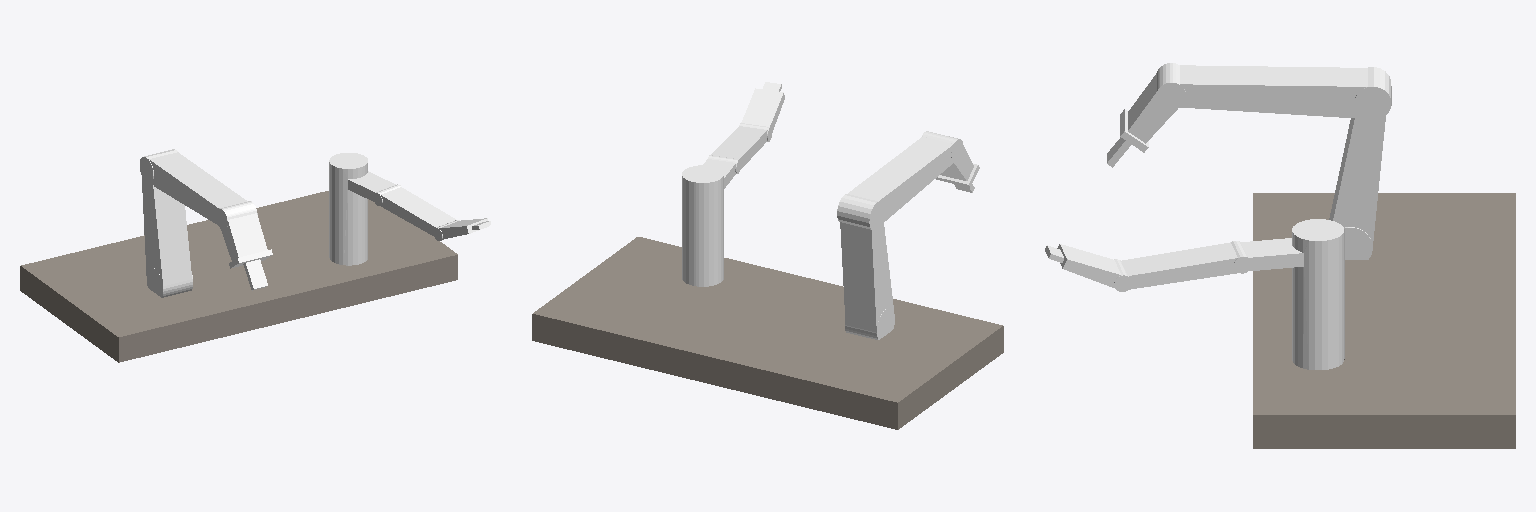
URDF robot description (my_robot_description):
<?xml version="1.0" encoding="utf-8"?>
<!-- This URDF was automatically created by SolidWorks to URDF Exporter! Originally created by [author] ([email redacted]) 
     Commit Version: 1.5.1-0-g916b5db  Build Version: 1.5.7152.31018
     For more information, please see http://wiki.ros.org/sw_urdf_exporter -->
<robot
  name="my_robot_description">
  <link
    name="base_link">
    <inertial>
      <origin
        xyz="0 0 0"
        rpy="0 0 0" />
      <mass
        value="100" />
      <inertia
        ixx="1"
        ixy="0"
        ixz="0"
        iyy="1"
        iyz="0"
        izz="1" />
    </inertial>
    <visual>
      <origin
        xyz="0 0 0"
        rpy="0 0 0" />
      <geometry>
        <mesh
          filename="package://myrobotdescription/meshes/base_link.STL" />
      </geometry>
      <material
        name="">
        <color
          rgba="0.65098 0.61961 0.58824 1" />
      </material>
    </visual>
    <collision>
      <origin
        xyz="0 0 0"
        rpy="0 0 0" />
      <geometry>
        <mesh
          filename="package://myrobotdescription/meshes/base_link.STL" />
      </geometry>
    </collision>
  </link>
  <link
    name="basejoint">
    <inertial>
      <origin
        xyz="0 0 0"
        rpy="0 0 0" />
      <mass
        value="0.24" />
      <inertia
        ixx="1"
        ixy="0"
        ixz="0"
        iyy="1"
        iyz="0"
        izz="1" />
    </inertial>
    <visual>
      <origin
        xyz="0 0 0"
        rpy="0 0 0" />
      <geometry>
        <mesh
          filename="package://myrobotdescription/meshes/basejoint.STL" />
      </geometry>
      <material
        name="">
        <color
          rgba="1 1 1 1" />
      </material>
    </visual>
    <collision>
      <origin
        xyz="0 0 0"
        rpy="0 0 0" />
      <geometry>
        <mesh
          filename="package://myrobotdescription/meshes/basejoint.STL" />
      </geometry>
    </collision>
  </link>
  <joint
    name="base_joint"
    type="fixed">
    <origin
      xyz="-0.967212862778998 -1.1 0.354355515120088"
      rpy="1.5707963267949 0 1.5707963267949" />
    <parent
      link="base_link" />
    <child
      link="basejoint" />
    <axis
      xyz="0 0 0" />
  </joint>
  <link
    name="sensor_link1">
    <inertial>
      <origin
        xyz="0 0 0"
        rpy="0 0 0" />
      <mass
        value="0.8" />
      <inertia
        ixx="1"
        ixy="0"
        ixz="0"
        iyy="1"
        iyz="0"
        izz="1" />
    </inertial>
    <visual>
      <origin
        xyz="0 0 0"
        rpy="0 0 0" />
      <geometry>
        <mesh
          filename="package://myrobotdescription/meshes/sensor_link1.STL" />
      </geometry>
      <material
        name="">
        <color
          rgba="1 1 1 1" />
      </material>
    </visual>
    <collision>
      <origin
        xyz="0 0 0"
        rpy="0 0 0" />
      <geometry>
        <mesh
          filename="package://myrobotdescription/meshes/sensor_link1.STL" />
      </geometry>
    </collision>
  </link>
  <joint
    name="sensor_joint1"
    type="revolute">
    <origin
      xyz="0 0 0"
      rpy="3.1416 0 3.0004" />
    <parent
      link="basejoint" />
    <child
      link="sensor_link1" />
    <axis
      xyz="0 0 1" />
    <limit
      lower="-3.142"
      upper="3.142"
      effort="30"
      velocity="0.5" />
  </joint>
  <link
    name="sensor_link2">
    <inertial>
      <origin
        xyz="0 0 0"
        rpy="0 0 0" />
      <mass
        value="1.11" />
      <inertia
        ixx="1"
        ixy="0"
        ixz="0"
        iyy="1"
        iyz="0"
        izz="1" />
    </inertial>
    <visual>
      <origin
        xyz="0 0 0"
        rpy="0 0 0" />
      <geometry>
        <mesh
          filename="package://myrobotdescription/meshes/sensor_link2.STL" />
      </geometry>
      <material
        name="">
        <color
          rgba="1 1 1 1" />
      </material>
    </visual>
    <collision>
      <origin
        xyz="0 0 0"
        rpy="0 0 0" />
      <geometry>
        <mesh
          filename="package://myrobotdescription/meshes/sensor_link2.STL" />
      </geometry>
    </collision>
  </link>
  <joint
    name="sensor_joint2"
    type="revolute">
    <origin
      xyz="-0.002203 1.0553 0"
      rpy="0 0 -1.6699" />
    <parent
      link="sensor_link1" />
    <child
      link="sensor_link2" />
    <axis
      xyz="0 0 1" />
    <limit
      lower="-3.142"
      upper="3.142"
      effort="30"
      velocity="0.5" />
  </joint>
  <link
    name="sensor_link3">
    <inertial>
      <origin
        xyz="0 0 0"
        rpy="0 0 0" />
      <mass
        value="0.31" />
      <inertia
        ixx="1"
        ixy="0"
        ixz="0"
        iyy="1"
        iyz="0"
        izz="1" />
    </inertial>
    <visual>
      <origin
        xyz="0 0 0"
        rpy="0 0 0" />
      <geometry>
        <mesh
          filename="package://myrobotdescription/meshes/sensor_link3.STL" />
      </geometry>
      <material
        name="">
        <color
          rgba="1 1 1 1" />
      </material>
    </visual>
    <collision>
      <origin
        xyz="0 0 0"
        rpy="0 0 0" />
      <geometry>
        <mesh
          filename="package://myrobotdescription/meshes/sensor_link3.STL" />
      </geometry>
    </collision>
  </link>
  <joint
    name="sensor_joint3"
    type="revolute">
    <origin
      xyz="0 1.3425 0"
      rpy="3.1416 0 2.1716" />
    <parent
      link="sensor_link2" />
    <child
      link="sensor_link3" />
    <axis
      xyz="0 0 1" />
    <limit
      lower="-3.142"
      upper="3.142"
      effort="30"
      velocity="0.5" />
  </joint>
  <link
    name="sensor_endeffector">
    <inertial>
      <origin
        xyz="0 0 0"
        rpy="0 0 0" />
      <mass
        value="0.075" />
      <inertia
        ixx="1"
        ixy="0"
        ixz="0"
        iyy="1"
        iyz="0"
        izz="1" />
    </inertial>
    <visual>
      <origin
        xyz="0 0 0"
        rpy="0 0 0" />
      <geometry>
        <mesh
          filename="package://myrobotdescription/meshes/sensor_endeffector.STL" />
      </geometry>
      <material
        name="">
        <color
          rgba="1 1 1 1" />
      </material>
    </visual>
    <collision>
      <origin
        xyz="0 0 0"
        rpy="0 0 0" />
      <geometry>
        <mesh
          filename="package://myrobotdescription/meshes/sensor_endeffector.STL" />
      </geometry>
    </collision>
  </link>
  <joint
    name="sensor_joint4"
    type="prismatic">
    <origin
      xyz="0 0.31663 0.035"
      rpy="1.5708 -1.5708 3.142" />
    <parent
      link="sensor_link3" />
    <child
      link="sensor_endeffector" />
    <axis
      xyz="0 0 1" />
    <limit
      lower="0"
      upper="0.10"
      effort="30"
      velocity="0.5" />
  </joint>
  <link
    name="water_link1">
    <inertial>
      <origin
        xyz="0 0 0"
        rpy="0 0 0" />
      <mass
        value="1.35" />
      <inertia
        ixx="1"
        ixy="0"
        ixz="0"
        iyy="1"
        iyz="0"
        izz="1" />
    </inertial>
    <visual>
      <origin
        xyz="0 0 0"
        rpy="0 0 0" />
      <geometry>
        <mesh
          filename="package://myrobotdescription/meshes/water_link1.STL" />
      </geometry>
      <material
        name="">
        <color
          rgba="1 1 1 1" />
      </material>
    </visual>
    <collision>
      <origin
        xyz="0 0 0"
        rpy="0 0 0" />
      <geometry>
        <mesh
          filename="package://myrobotdescription/meshes/water_link1.STL" />
      </geometry>
    </collision>
  </link>
  <joint
    name="water_joint1"
    type="revolute">
    <origin
      xyz="0.78379 -1.3125 0.2"
      rpy="0 0 1.774" />
    <parent
      link="base_link" />
    <child
      link="water_link1" />
    <axis
      xyz="0 0 1" />
    <limit
      lower="-1.047"
      upper="1.047"
      effort="30"
      velocity="0.5" />
  </joint>
  <link
    name="water_link2">
    <inertial>
      <origin
        xyz="0 0 0"
        rpy="0 0 0" />
      <mass
        value="0.285" />
      <inertia
        ixx="1"
        ixy="0"
        ixz="0"
        iyy="1"
        iyz="0"
        izz="1" />
    </inertial>
    <visual>
      <origin
        xyz="0 0 0"
        rpy="0 0 0" />
      <geometry>
        <mesh
          filename="package://myrobotdescription/meshes/water_link2.STL" />
      </geometry>
      <material
        name="">
        <color
          rgba="1 1 1 1" />
      </material>
    </visual>
    <collision>
      <origin
        xyz="0 0 0"
        rpy="0 0 0" />
      <geometry>
        <mesh
          filename="package://myrobotdescription/meshes/water_link2.STL" />
      </geometry>
    </collision>
  </link>
  <joint
    name="water_joint2"
    type="continuous">
    <origin
      xyz="-0.5375 0 0.85"
      rpy="1.5708 0.078326 -3.1416" />
    <parent
      link="water_link1" />
    <child
      link="water_link2" />
    <axis
      xyz="0 0 1" />

  </joint>
  <link
    name="water_link3">
    <inertial>
      <origin
        xyz="0 0 0"
        rpy="0 0 0" />
      <mass
        value="0.159" />
      <inertia
       ixx="1"
        ixy="0"
        ixz="0"
        iyy="1"
        iyz="0"
        izz="1" />
    </inertial>
    <visual>
      <origin
        xyz="0 0 0"
        rpy="0 0 0" />
      <geometry>
        <mesh
          filename="package://myrobotdescription/meshes/water_link3.STL" />
      </geometry>
      <material
        name="">
        <color
          rgba="1 1 1 1" />
      </material>
    </visual>
    <collision>
      <origin
        xyz="0 0 0"
        rpy="0 0 0" />
      <geometry>
        <mesh
          filename="package://myrobotdescription/meshes/water_link3.STL" />
      </geometry>
    </collision>
  </link>
  <joint
    name="water_joint3"
    type="revolute">
    <origin
      xyz="0.81494 0.0013327 0"
      rpy="2.636 1.5708 0" />
    <parent
      link="water_link2" />
    <child
      link="water_link3" />
    <axis
      xyz="1 0 0" />
    <limit
      lower="-1.5707"
      upper="1.5707"
      effort="30"
      velocity="0.5" />
  </joint>

  <gazebo>
    <plugin name="gazebo_ros_control" filename="libgazebo_ros_control.so">
    </plugin>
  </gazebo>

	<!-- transmission -->
  <transmission name="trans1">
	<type>transmission_interface/SimpleTransmission</type>
	<joint name="water_joint1">
		<hardwareInterface>PositionJointInterface</hardwareInterface>
	</joint>
	<actuator name="water_servo1">
		<hardwareInterface>PositionJointInterface</hardwareInterface>
		<mechanicalReduction>1</mechanicalReduction>
	</actuator>
  </transmission>

  <transmission name="trans2">
	<type>transmission_interface/SimpleTransmission</type>
	<joint name="water_joint2">
		<hardwareInterface>PositionJointInterface</hardwareInterface>
	</joint>
	<actuator name="water_servo2">
		<hardwareInterface>PositionJointInterface</hardwareInterface>
		<mechanicalReduction>1</mechanicalReduction>
	</actuator>
  </transmission>

  <transmission name="trans3">
	<type>transmission_interface/SimpleTransmission</type>
	<joint name="water_joint3">
		<hardwareInterface>PositionJointInterface</hardwareInterface>
	</joint>
	<actuator name="water_servo3">
		<hardwareInterface>PositionJointInterface</hardwareInterface>
		<mechanicalReduction>1</mechanicalReduction>
	</actuator>
  </transmission>

  <transmission name="trans4">
	<type>transmission_interface/SimpleTransmission</type>
	<joint name="sensor_joint1">
		<hardwareInterface>PositionJointInterface</hardwareInterface>
	</joint>
	<actuator name="sensor_servo1">
		<hardwareInterface>PositionJointInterface</hardwareInterface>
		<mechanicalReduction>1</mechanicalReduction>
	</actuator>
  </transmission>

  <transmission name="trans5">
	<type>transmission_interface/SimpleTransmission</type>
	<joint name="sensor_joint2">
		<hardwareInterface>PositionJointInterface</hardwareInterface>
	</joint>
	<actuator name="sensor_servo2">
		<hardwareInterface>PositionJointInterface</hardwareInterface>
		<mechanicalReduction>1</mechanicalReduction>
	</actuator>
  </transmission>

  <transmission name="trans6">
	<type>transmission_interface/SimpleTransmission</type>
	<joint name="sensor_joint3">
		<hardwareInterface>PositionJointInterface</hardwareInterface>
	</joint>
	<actuator name="sensor_servo3">
		<hardwareInterface>PositionJointInterface</hardwareInterface>
		<mechanicalReduction>1</mechanicalReduction>
	</actuator>
  </transmission>

  <transmission name="trans7">
	<type>transmission_interface/SimpleTransmission</type>
	<joint name="sensor_joint4">
		<hardwareInterface>PositionJointInterface</hardwareInterface>
	</joint>
	<actuator name="sensor_servo4">
		<hardwareInterface>PositionJointInterface</hardwareInterface>
		<mechanicalReduction>1</mechanicalReduction>
	</actuator>
  </transmission>

</robot>

--- Facts derived from the render (not from the file) ---
The picture shows the robot from 3 angles, left to right: view 1: azimuth 30°, elevation 25°; view 2: azimuth 150°, elevation 25°; view 3: azimuth 270°, elevation 25°; orthographic projection.
Robot: my_robot_description — 9 links, 8 joints (5 revolute, 1 continuous, 1 prismatic, 1 fixed); root link base_link; default pose: every joint at zero.
Links seen in each view (by area): view 1: base_link, water_link1, sensor_link1, sensor_link2, sensor_link3, water_link2, sensor_endeffector, water_link3, basejoint; view 2: base_link, water_link1, sensor_link2, sensor_link1, water_link3, water_link2, sensor_link3, basejoint; view 3: base_link, sensor_link2, water_link1, sensor_link1, water_link2, sensor_link3, water_link3, sensor_endeffector, basejoint.
Boxes of the visible links, box(x1,y1,x2,y2) form: base_link: box(20, 191, 457, 362); water_link1: box(329, 153, 395, 265); sensor_link1: box(142, 177, 191, 285); sensor_link2: box(140, 149, 247, 225); sensor_link3: box(216, 201, 267, 260); water_link2: box(373, 184, 455, 235); sensor_endeffector: box(229, 249, 272, 290); water_link3: box(433, 218, 490, 240); basejoint: box(147, 268, 192, 297); base_link: box(532, 237, 1003, 429); water_link1: box(682, 159, 735, 286); sensor_link2: box(837, 137, 953, 230); sensor_link1: box(840, 219, 893, 332); water_link3: box(739, 82, 784, 141); water_link2: box(708, 126, 767, 173); sensor_link3: box(922, 131, 973, 180); basejoint: box(845, 308, 894, 339); base_link: box(1253, 193, 1515, 448); sensor_link2: box(1179, 65, 1391, 120); water_link1: box(1241, 219, 1344, 369); sensor_link1: box(1329, 116, 1385, 244); water_link2: box(1121, 241, 1251, 289); sensor_link3: box(1128, 63, 1185, 143); water_link3: box(1045, 244, 1131, 291); sensor_endeffector: box(1107, 109, 1148, 167); basejoint: box(1344, 227, 1372, 259).
Size in the robot's own frame: 3.5 by 3.13 by 1.55 metres.
Meshes: 9 distinct files referenced, 9 mesh visuals loaded (9 binary STL).